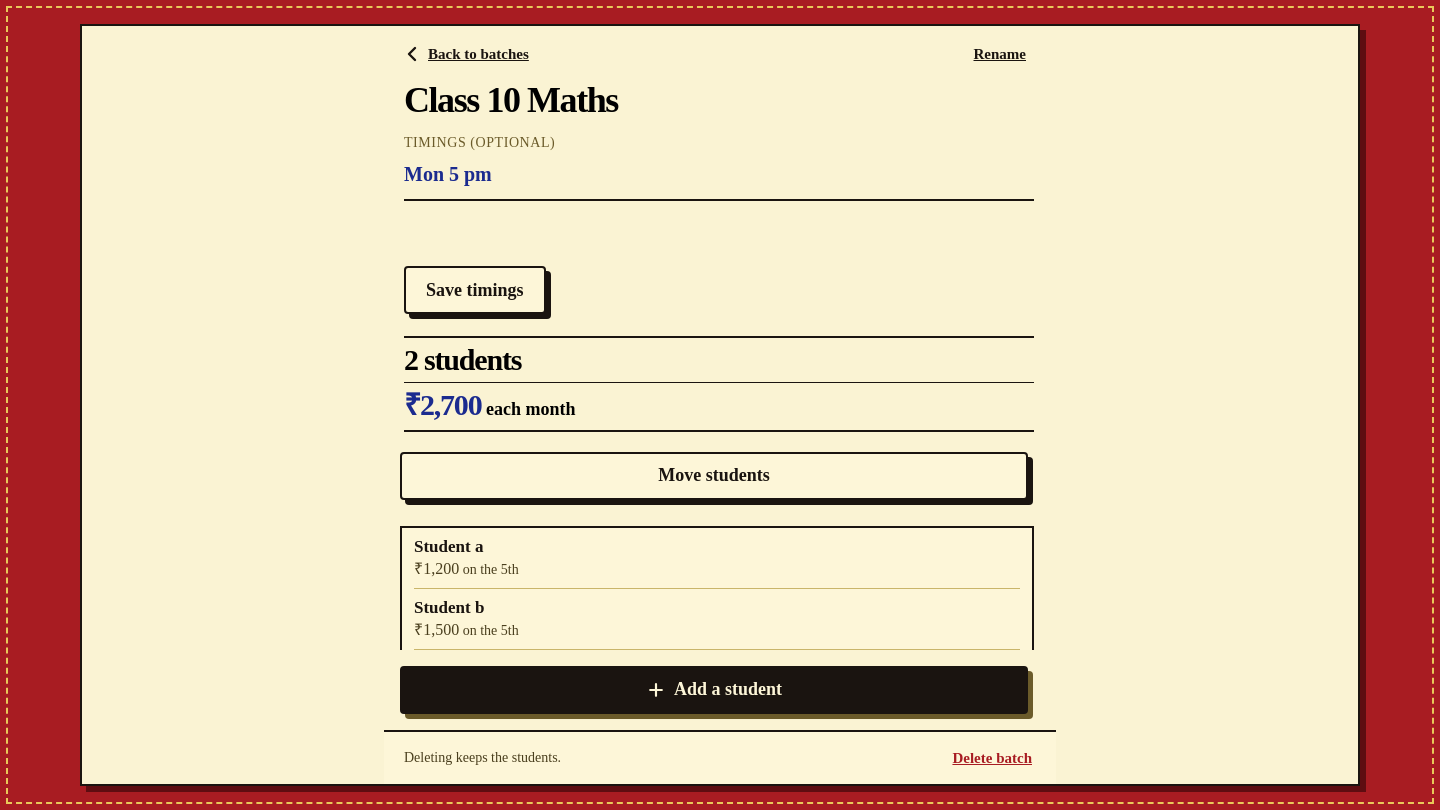
Test: delete (45) › counts every student that loses the batch, archived ones too
The width and height of the screenshot is (1440, 810).
Step 1. Click the button "Delete batch" → coordinates (992, 758), box [948,736,1036,780]
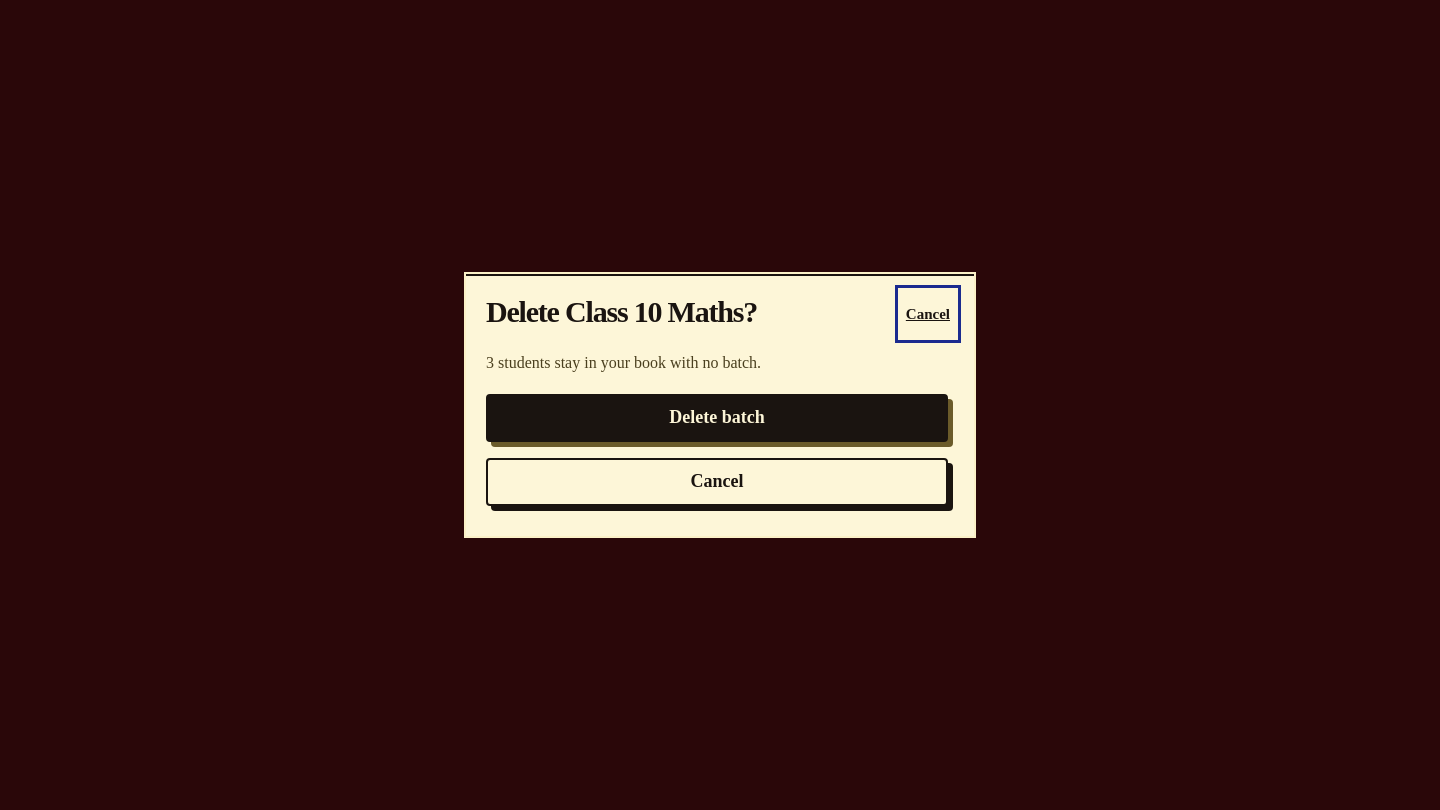
Expected: the text "3 students stay in your book with no batch." is shown, [486,354,761,371]
